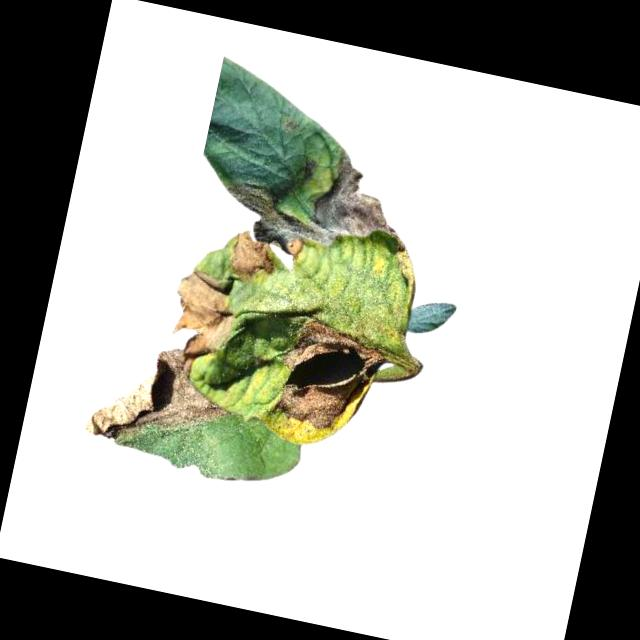Late_blight: (215, 128, 414, 275), (83, 333, 244, 467), (269, 313, 389, 438), (165, 265, 248, 359), (227, 228, 278, 283)
